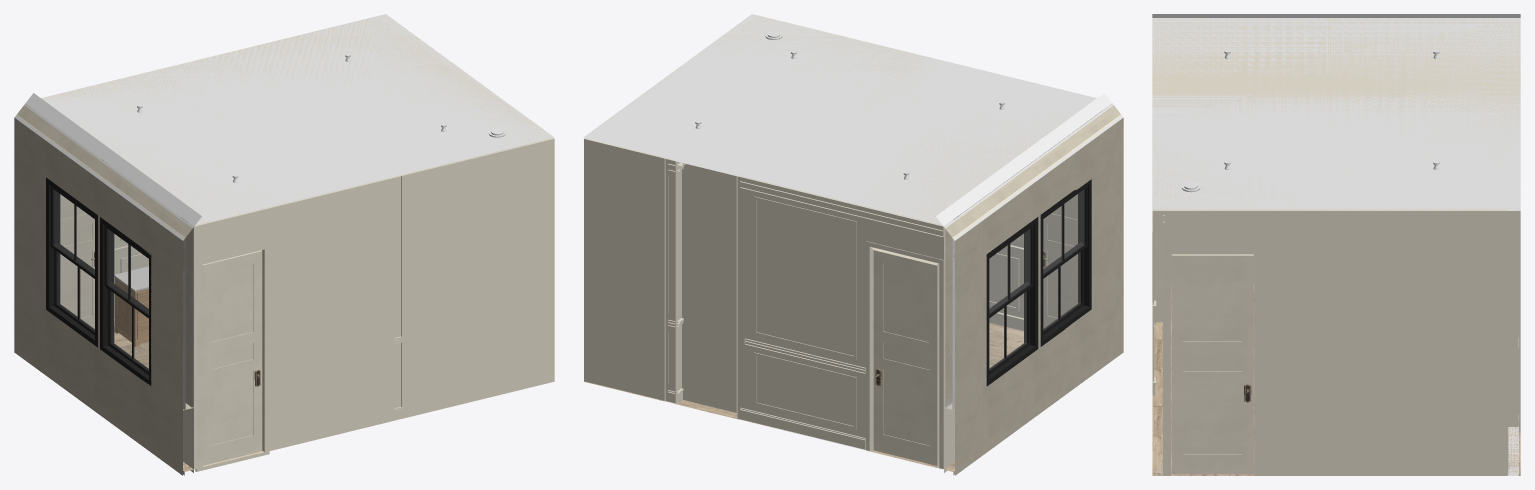
File: green-bedroom-453393f557a7.glb
The picture shows the model from 3 angles, left to right: view 1: azimuth 30°, elevation 25°; view 2: azimuth 150°, elevation 25°; view 3: azimuth 270°, elevation 25°; orthographic projection. The views are drawn at different scales.
Parts seen in each view (by area): view 1: green-bedroom-eb02897c2e79e2b1, green-bedroom-9d91b47435c6fb33, green-bedroom-312b4ac1be39223d, green-bedroom-e8793759323e04f0, green-bedroom-7406100458e293ce, green-bedroom-33ee0b466567e5f0, green-bedroom-eea30be35ce76d8a, green-bedroom-b27266f3159d5f34, green-bedroom-5e646f76b0244fe8, green-bedroom-39b94aca90fa4b53, green-bedroom-3a4d9d62ecd7be1c, green-bedroom-442e5a19ed849720 (+5 smaller); view 2: green-bedroom-9d91b47435c6fb33, green-bedroom-b6ab44e8ab2b63f4, green-bedroom-8d8280a2b3ef8b4c, green-bedroom-312b4ac1be39223d, green-bedroom-689020e0fc226264, green-bedroom-5e646f76b0244fe8, green-bedroom-33ee0b466567e5f0, green-bedroom-e8793759323e04f0, green-bedroom-eea30be35ce76d8a, green-bedroom-b27266f3159d5f34, green-bedroom-7406100458e293ce, green-bedroom-4fe5579be934d30a (+9 smaller); view 3: green-bedroom-64efeecf845bccca, green-bedroom-9d91b47435c6fb33, green-bedroom-e8793759323e04f0, green-bedroom-b50904fb6ee0544e, green-bedroom-2575515a05775d9e, green-bedroom-689020e0fc226264, green-bedroom-34287d1b870c745c, green-bedroom-eb02897c2e79e2b1, green-bedroom-442e5a19ed849720, green-bedroom-8d8280a2b3ef8b4c, green-bedroom-4fe5579be934d30a.
Boxes of the visible parts, x1,y1,x2,y2 form: green-bedroom-eb02897c2e79e2b1: (188,139,554,469); green-bedroom-9d91b47435c6fb33: (25,14,554,226); green-bedroom-312b4ac1be39223d: (14,116,184,409); green-bedroom-e8793759323e04f0: (27,14,552,224); green-bedroom-7406100458e293ce: (202,250,262,465); green-bedroom-33ee0b466567e5f0: (14,287,193,475); green-bedroom-eea30be35ce76d8a: (46,177,97,347); green-bedroom-b27266f3159d5f34: (100,217,151,386); green-bedroom-5e646f76b0244fe8: (60,138,100,328); green-bedroom-39b94aca90fa4b53: (17,105,192,409); green-bedroom-3a4d9d62ecd7be1c: (24,103,193,407); green-bedroom-442e5a19ed849720: (201,247,266,467); green-bedroom-9d91b47435c6fb33: (583,14,1112,226); green-bedroom-b6ab44e8ab2b63f4: (736,176,949,469); green-bedroom-8d8280a2b3ef8b4c: (584,138,681,403); green-bedroom-312b4ac1be39223d: (953,116,1123,409); green-bedroom-689020e0fc226264: (676,160,737,418); green-bedroom-5e646f76b0244fe8: (873,250,937,465); green-bedroom-33ee0b466567e5f0: (944,287,1123,475); green-bedroom-e8793759323e04f0: (585,15,1110,224); green-bedroom-eea30be35ce76d8a: (986,217,1038,386); green-bedroom-b27266f3159d5f34: (1040,179,1091,346); green-bedroom-7406100458e293ce: (1039,137,1077,328); green-bedroom-4fe5579be934d30a: (664,158,676,403); green-bedroom-64efeecf845bccca: (1164,209,1508,475); green-bedroom-9d91b47435c6fb33: (1152,18,1520,210); green-bedroom-e8793759323e04f0: (1152,14,1520,209); green-bedroom-b50904fb6ee0544e: (1171,254,1253,474); green-bedroom-2575515a05775d9e: (1152,284,1520,475); green-bedroom-689020e0fc226264: (1508,211,1518,426); green-bedroom-34287d1b870c745c: (1169,252,1256,475); green-bedroom-eb02897c2e79e2b1: (1152,209,1164,475); green-bedroom-442e5a19ed849720: (1156,211,1162,322); green-bedroom-8d8280a2b3ef8b4c: (1507,209,1518,475); green-bedroom-4fe5579be934d30a: (1519,211,1520,432).
Bounding box in the file's own units: 4.64 × 3.04 × 3.65.
33 materials, 8 textured.
